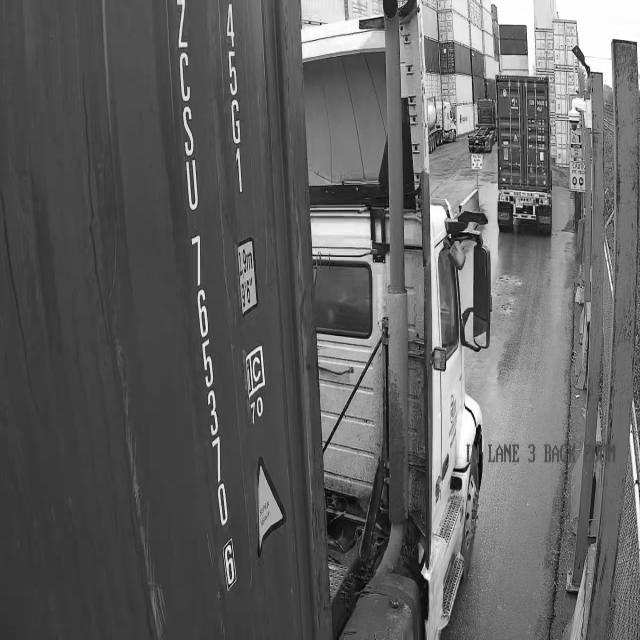container_side_no: (166, 0, 244, 601)
truck_with_container: (0, 0, 492, 639)
